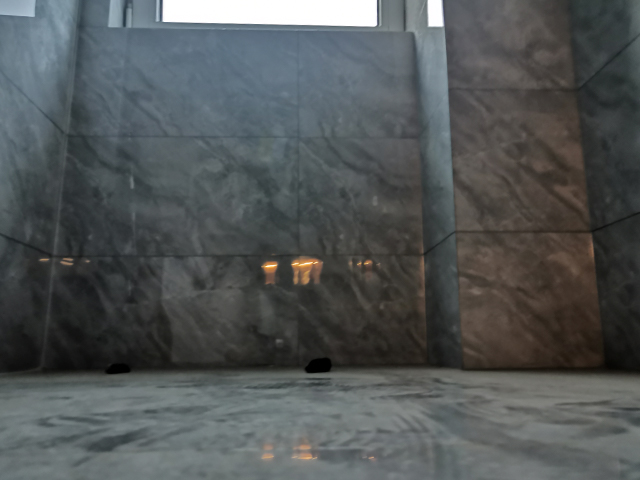feces: (303, 356, 333, 374), (104, 361, 133, 375)
